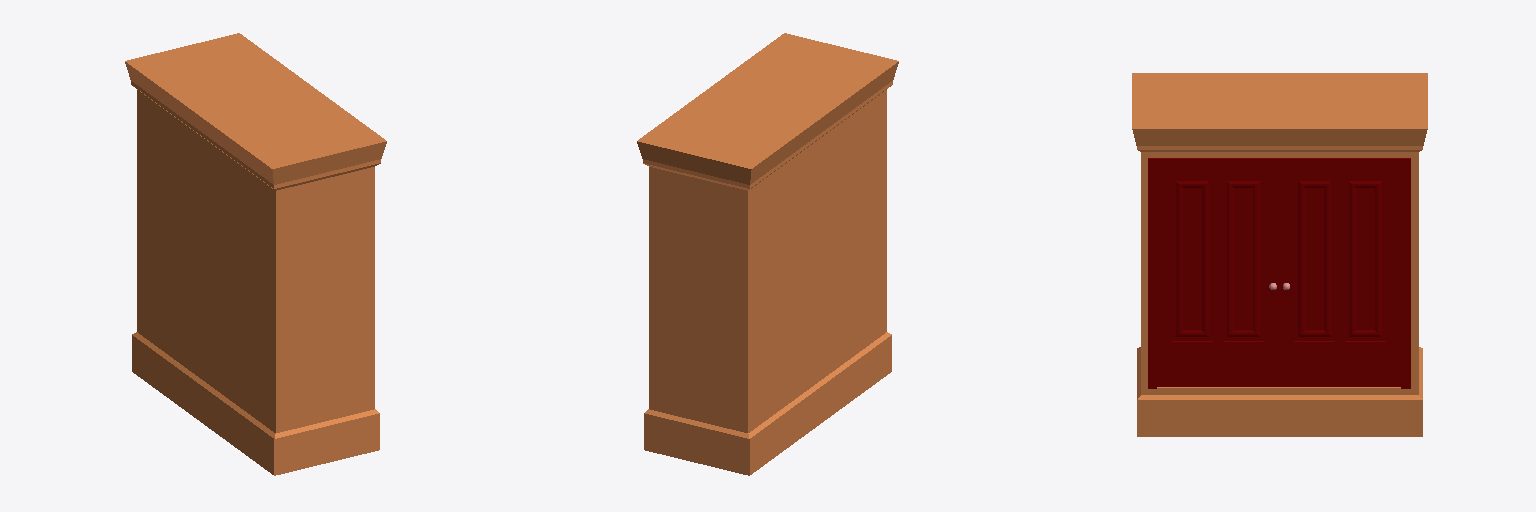
File: kastbeter.obj
The picture shows the model from 3 angles: view 1: azimuth 30°, elevation 25°; view 2: azimuth 150°, elevation 25°; view 3: azimuth 270°, elevation 25°; orthographic projection.
Parts seen in each view (by area): view 1: Kast_basis; view 2: Kast_basis; view 3: deuren, Kast_basis.
Part boxes in pixels (bbox=[...]): Kast_basis: bbox=[125, 33, 386, 475]; Kast_basis: bbox=[637, 33, 898, 475]; deuren: bbox=[1148, 158, 1410, 388]; Kast_basis: bbox=[1132, 73, 1427, 436].
Bounding box in the file's own units: 32.57 × 83.89 × 72.57.